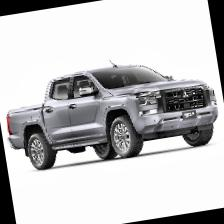NON-EV: (1, 45, 223, 178)
